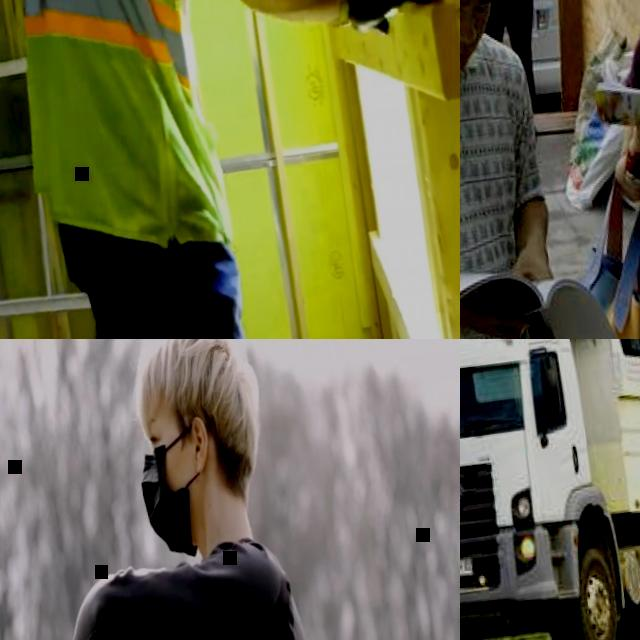machinery: (460, 339, 640, 640), (460, 339, 640, 408)
mask: (136, 442, 201, 558)
no_helmet: (134, 339, 259, 423)
no_mask: (460, 1, 476, 79)
no_vest: (460, 31, 563, 339), (143, 546, 340, 640)
person: (0, 0, 460, 339), (9, 339, 344, 640), (460, 0, 589, 339), (571, 0, 640, 339), (460, 0, 575, 112)
vehicle: (478, 0, 590, 101)
vest: (0, 0, 288, 271)
